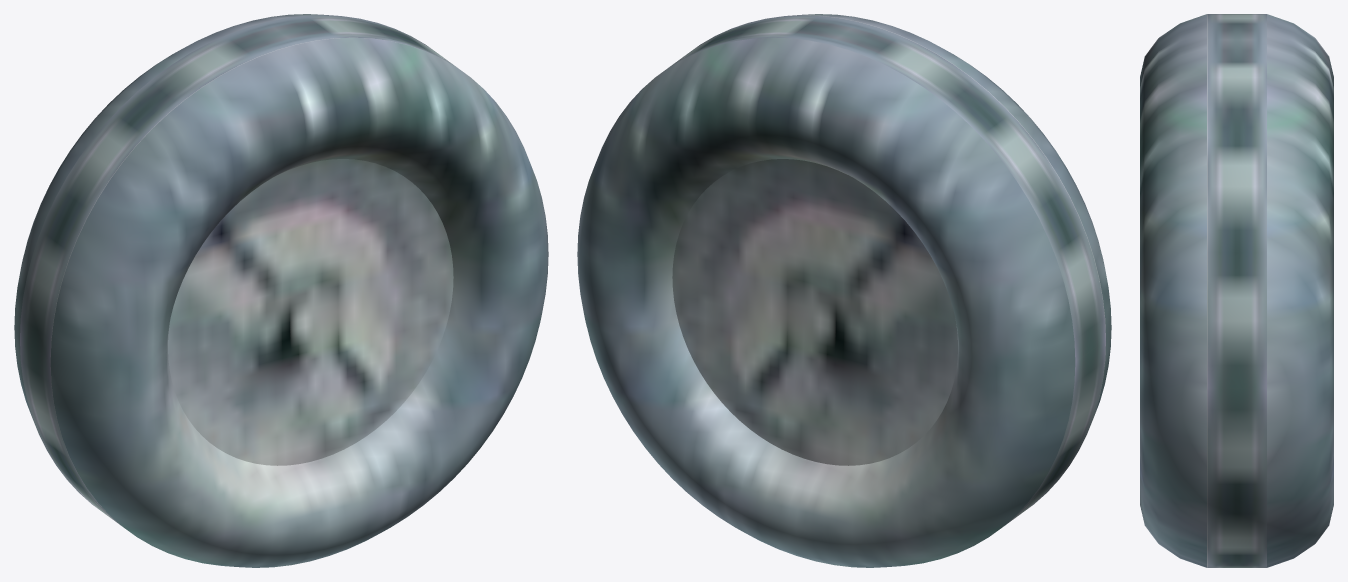
File: apolloj4.obj
3 renders of one model, left to right at view 1: azimuth 30°, elevation 25°; view 2: azimuth 150°, elevation 25°; view 3: azimuth 270°, elevation 25°, orthographic. The views are drawn at different scales.
Visible parts, largest first — view 1: ColobotMesh_1_ColobotMesh_; view 2: ColobotMesh_1_ColobotMesh_; view 3: ColobotMesh_1_ColobotMesh_.
Part boxes in pixels (x1=…): ColobotMesh_1_ColobotMesh_: x1=14, y1=14, x2=548, y2=567; ColobotMesh_1_ColobotMesh_: x1=577, y1=14, x2=1111, y2=567; ColobotMesh_1_ColobotMesh_: x1=1140, y1=14, x2=1333, y2=567.
Size of the model in its own units: 3.7 by 3.7 by 1.3.
